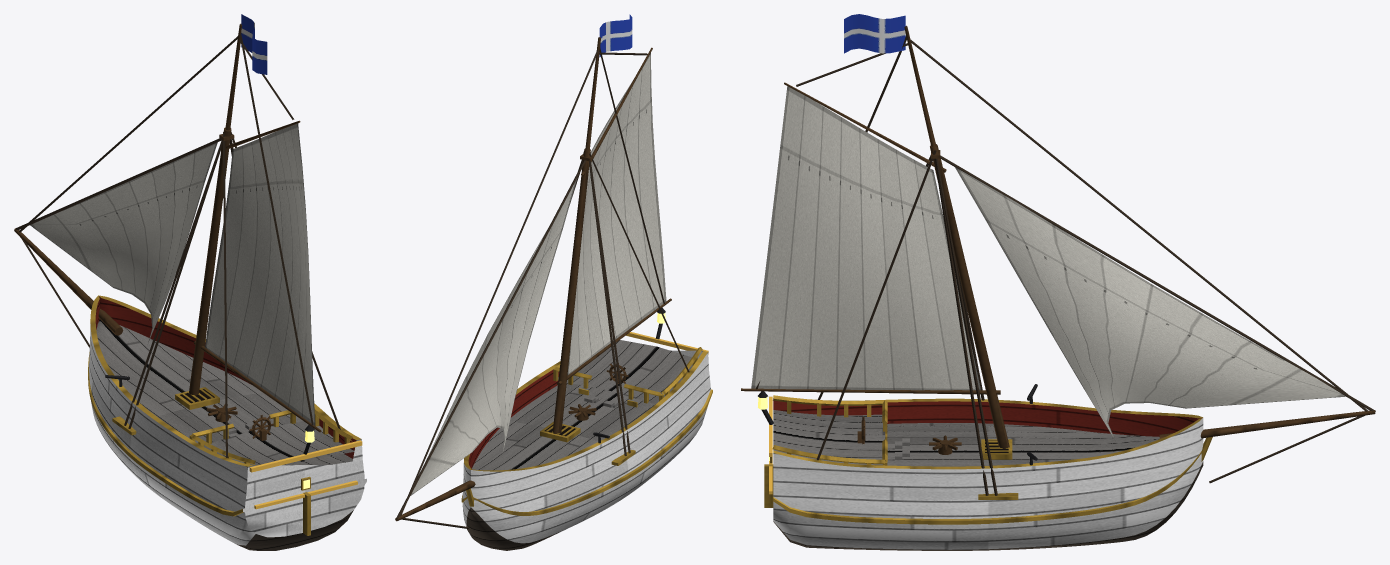
File: enemy_cutter.glb
3 renders of one model, left to right at view 1: azimuth 30°, elevation 25°; view 2: azimuth 150°, elevation 25°; view 3: azimuth 270°, elevation 25°, orthographic. The views are drawn at different scales.
Parts seen in each view (by area): view 1: Hull, Sail0_0, Jib, Rigging, Flag; view 2: Hull, Sail0_0, Jib, Rigging, Flag; view 3: Hull, Sail0_0, Jib, Rigging, Flag.
Part boxes in pixels (x1,y1,x2,y2): Hull: [88, 295, 366, 550]; Sail0_0: [205, 123, 315, 425]; Jib: [30, 142, 217, 342]; Rigging: [14, 23, 340, 457]; Flag: [241, 14, 267, 74]; Hull: [461, 307, 712, 550]; Sail0_0: [567, 53, 666, 375]; Jib: [410, 178, 577, 495]; Rigging: [395, 37, 689, 528]; Flag: [599, 14, 632, 57]; Hull: [758, 391, 1212, 550]; Sail0_0: [751, 86, 980, 390]; Jib: [955, 167, 1345, 441]; Rigging: [741, 25, 1375, 495]; Flag: [844, 14, 905, 53].
Bounding box in the file's own units: 0.6002 × 1.89 × 2.1.
Materials: 14 (8 with a texture image).
